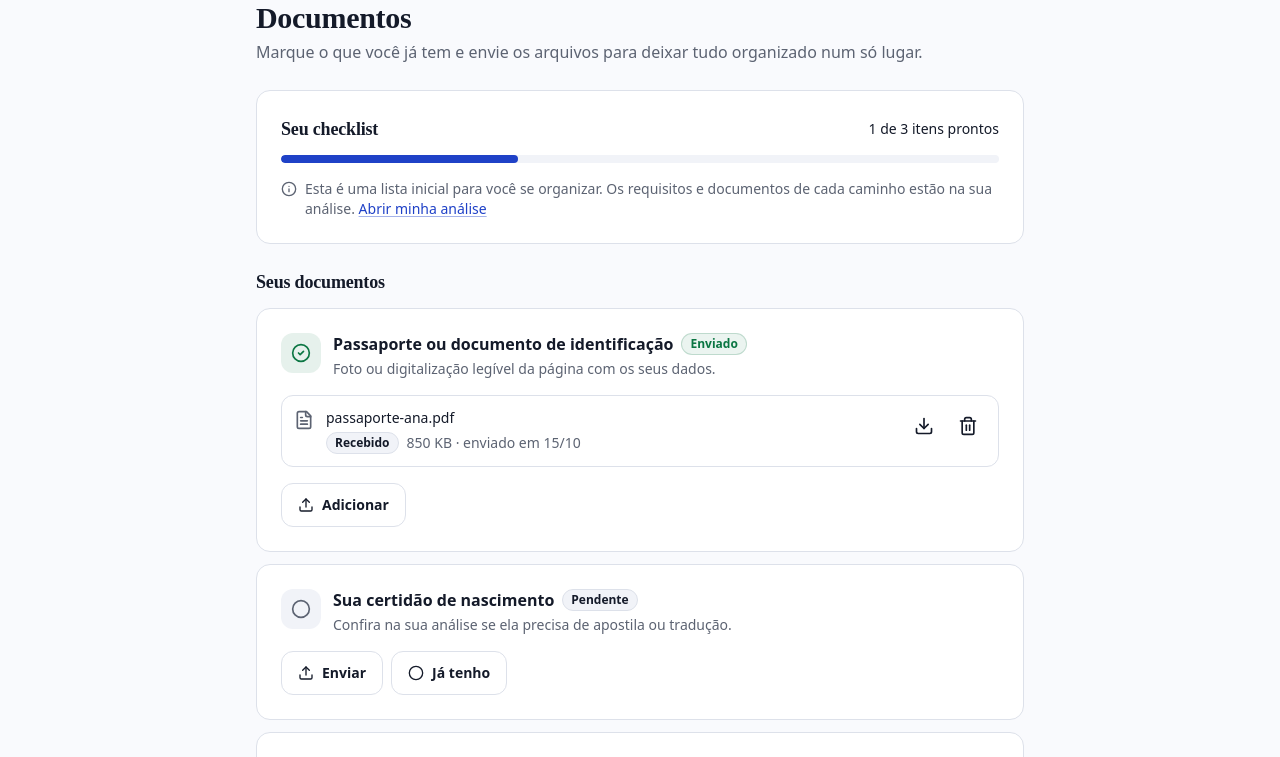
Scenario: DocumentsPage — remover › cancelar não apaga nada
This screenshot has width=1280, height=757.
Click the button with test id "delete-doc-1".
click(968, 426)  # box x1=946 y1=404 x2=990 y2=448
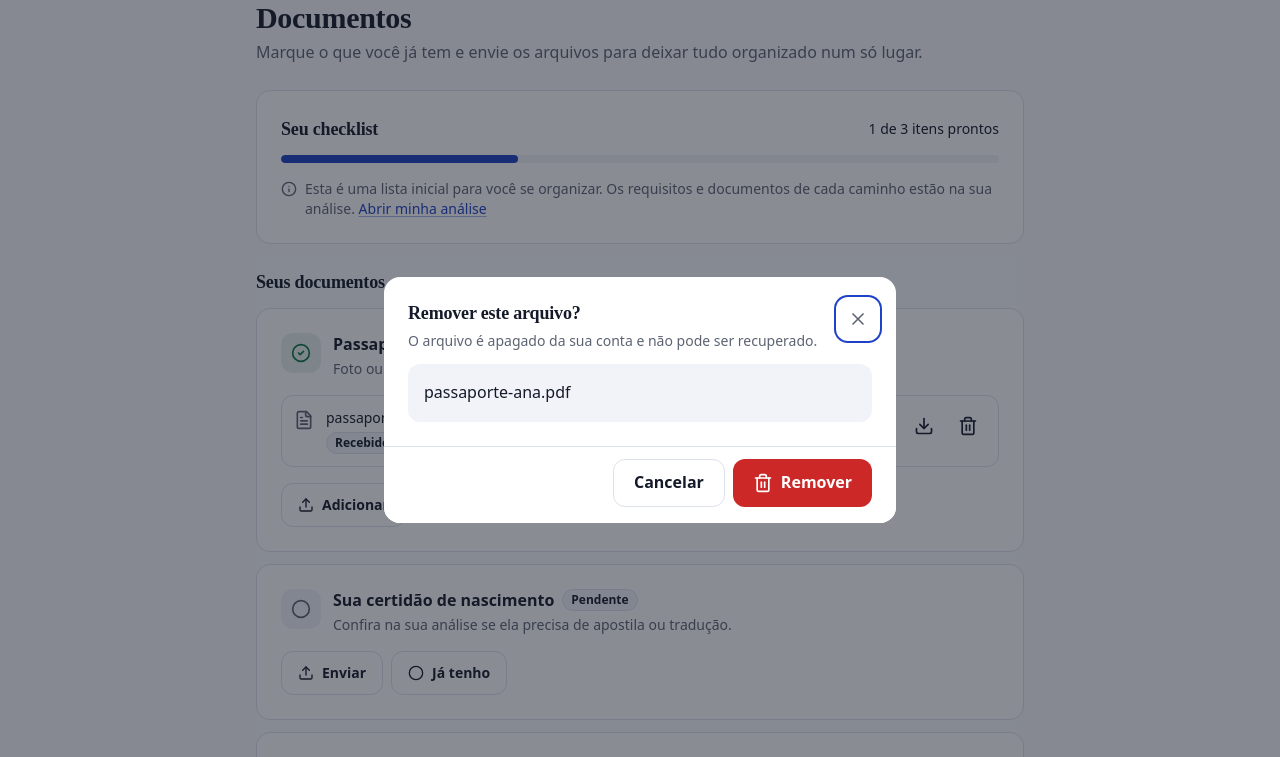
Click the button "Cancelar".
click(669, 483)  # box x1=613 y1=459 x2=725 y2=507
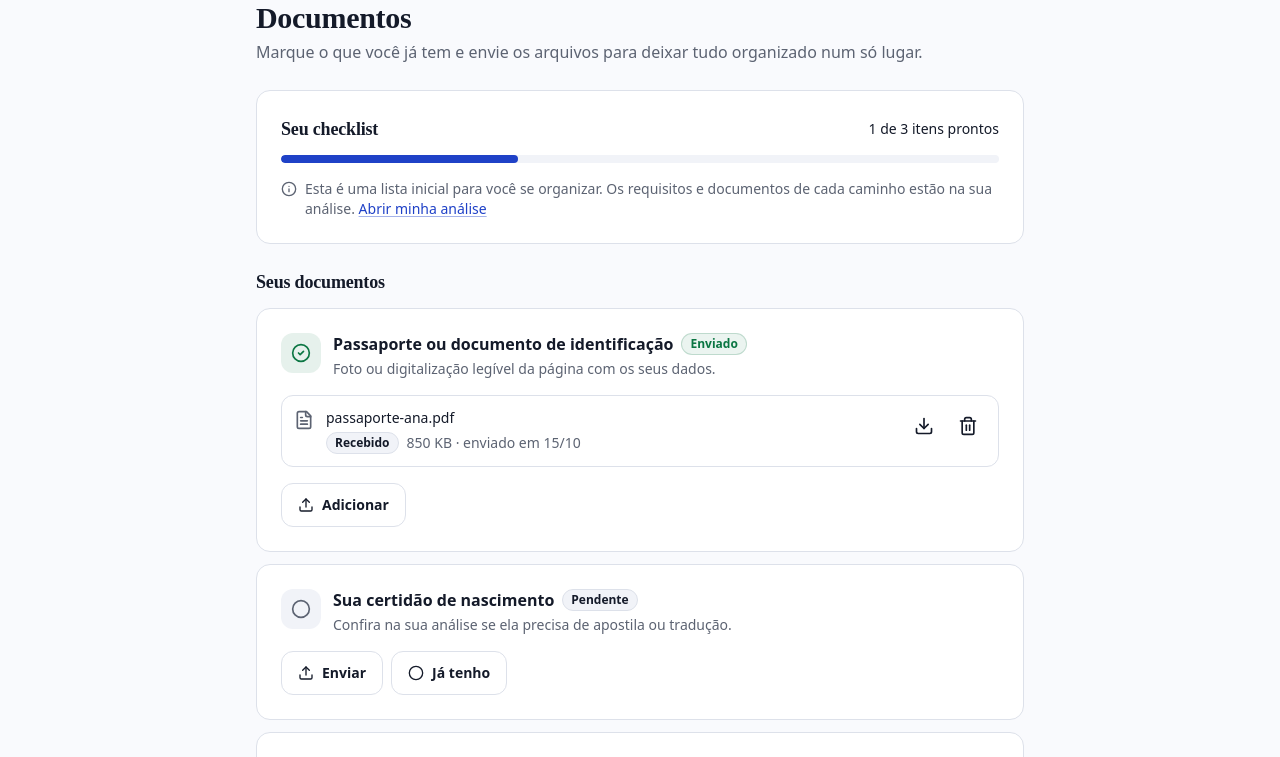
Now the dialog is gone
